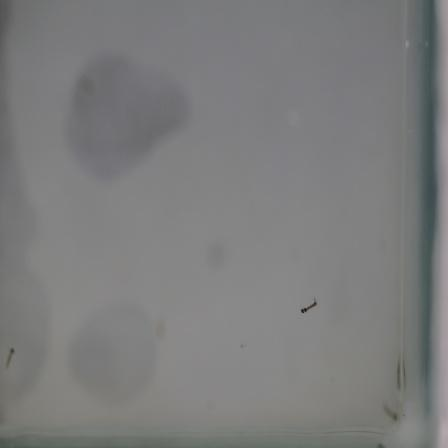Jentik-Nyamuk: (299, 295, 321, 319)
